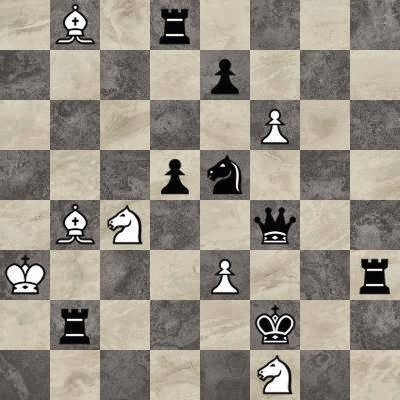black-king: (250, 300, 300, 350)
black-knight: (200, 150, 250, 200)
black-pawn: (200, 50, 250, 100), (150, 150, 200, 200)
black-queen: (250, 200, 300, 250)
black-rook: (150, 0, 200, 50), (350, 250, 400, 300), (50, 300, 100, 350)
white-bishop: (50, 0, 100, 50), (50, 200, 100, 250)
white-king: (0, 250, 50, 300)
white-knight: (100, 200, 150, 250), (250, 350, 300, 400)
white-pawn: (250, 100, 300, 150), (200, 250, 250, 300)
